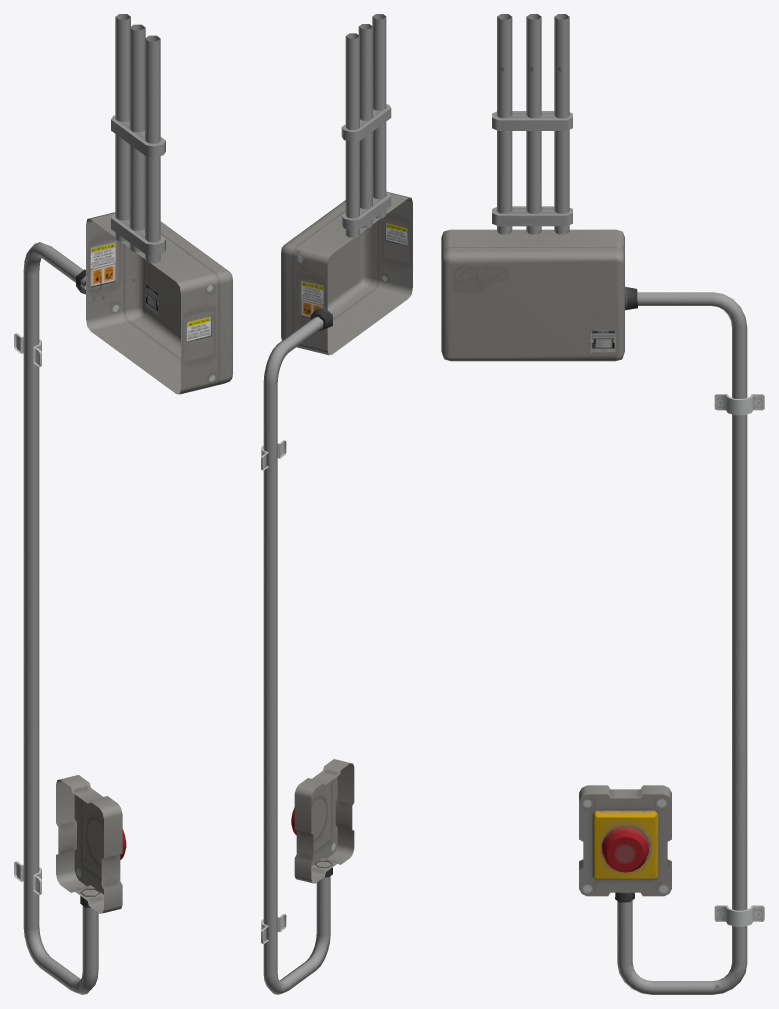
The model's file is SM_WallWire_02.FBX.
3 renders of one model, left to right at view 1: azimuth 30°, elevation 25°; view 2: azimuth 150°, elevation 25°; view 3: azimuth 270°, elevation 25°, orthographic. The views are drawn at different scales.
Visible parts, largest first — view 1: SM_WallWire_02_LOD0; view 2: SM_WallWire_02_LOD0; view 3: SM_WallWire_02_LOD0.
Boxes of the visible parts, x1,y1,x2,y2 form: SM_WallWire_02_LOD0: (14, 14, 232, 994); SM_WallWire_02_LOD0: (261, 14, 412, 994); SM_WallWire_02_LOD0: (441, 14, 764, 994).
Size of the model in its own units: 12.26 by 58.49 by 195.
